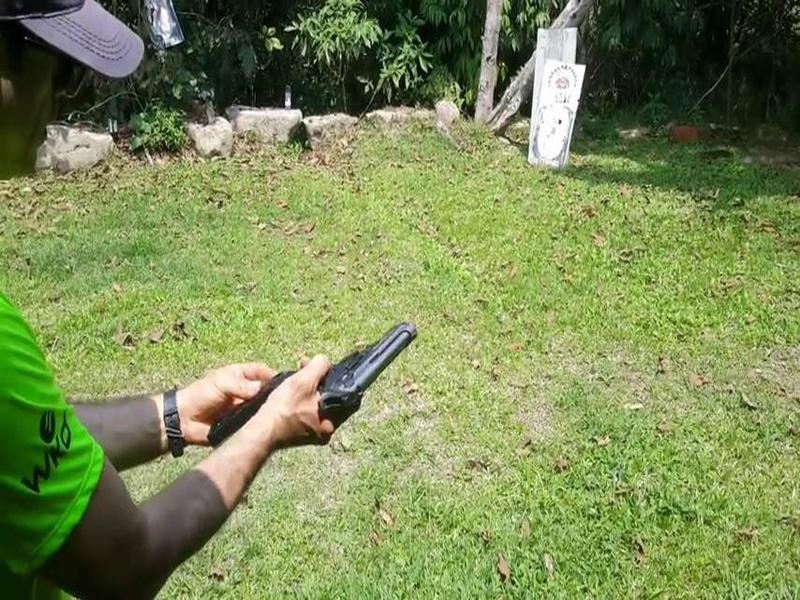Pistola: (262, 316, 424, 424)
